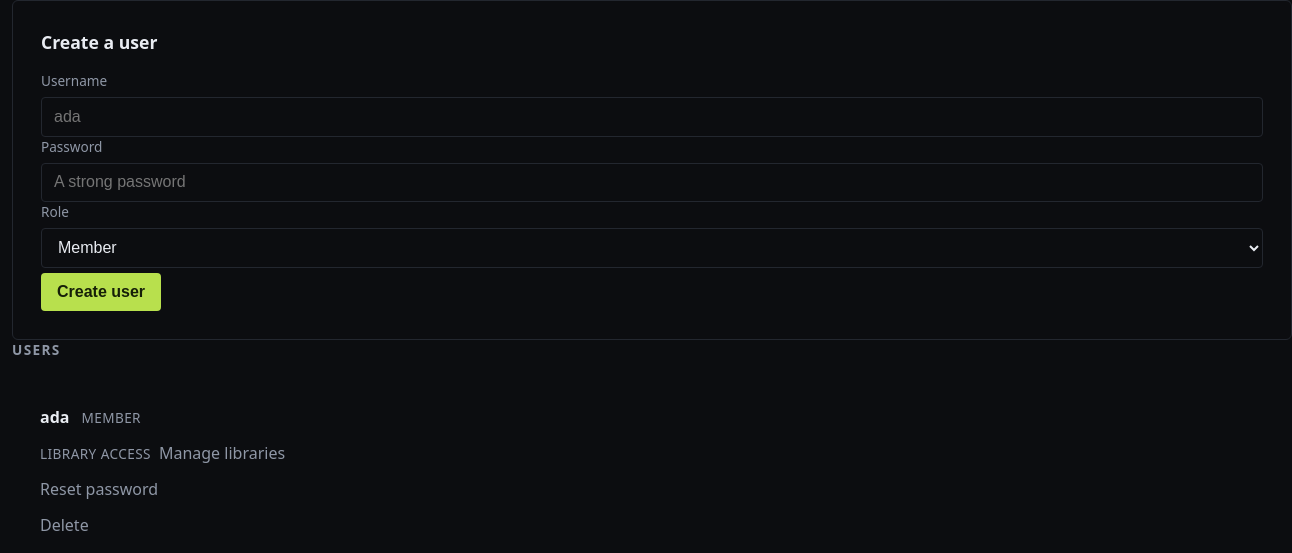
Test case: AdminUsersScreen › disables the confirm-delete button while the delete is in flight
Check: the list item with test id "admin-user-row" is shown, box [40,406,285,537]
Click the button with test id "delete-user-button". click: (64, 525)
box: [40,513,89,537]
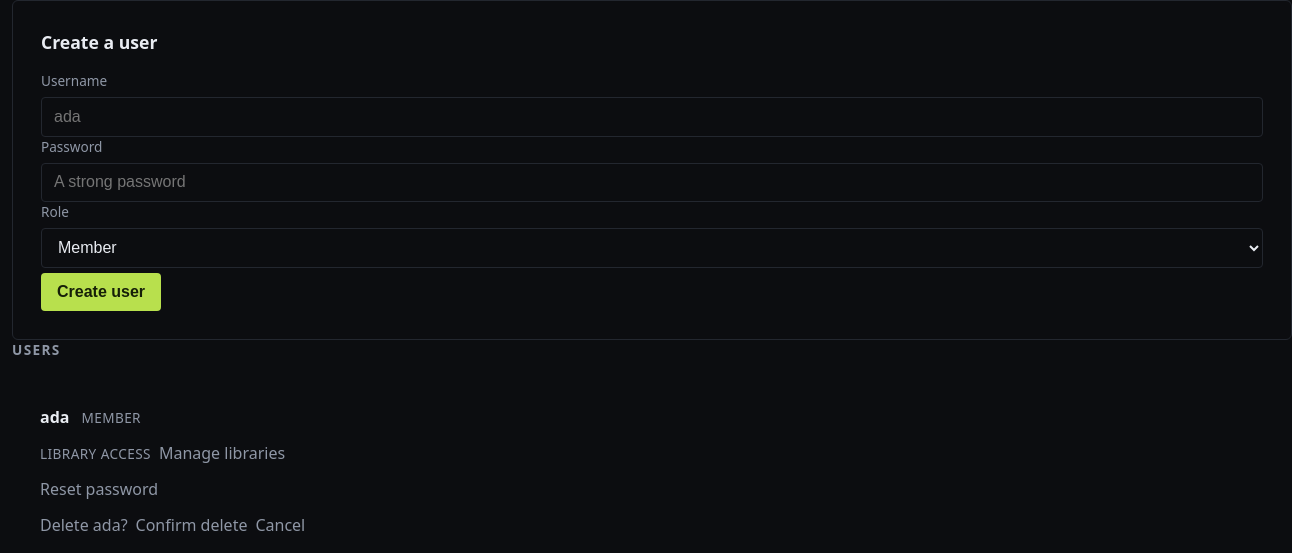
Click the button with test id "delete-user-confirm-button". click: (192, 525)
box: [136,513,248,537]
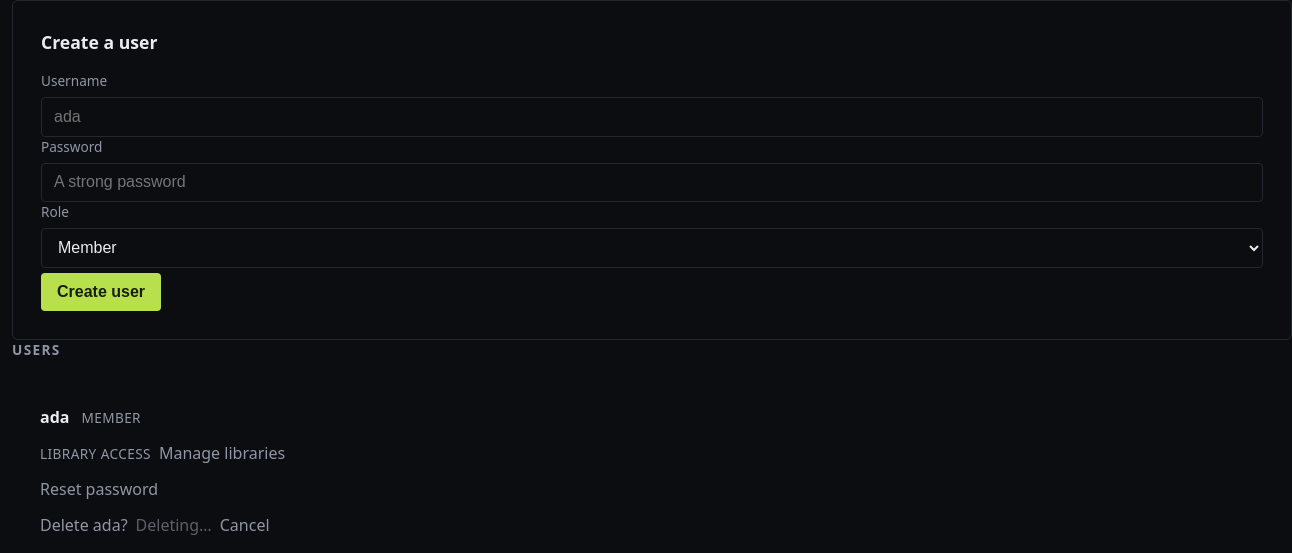
Check: the button with test id "delete-user-confirm-button" is disabled, box [136,513,212,537]
Check: the button with test id "delete-user-confirm-button" shows "Deleting", box [136,513,212,537]
